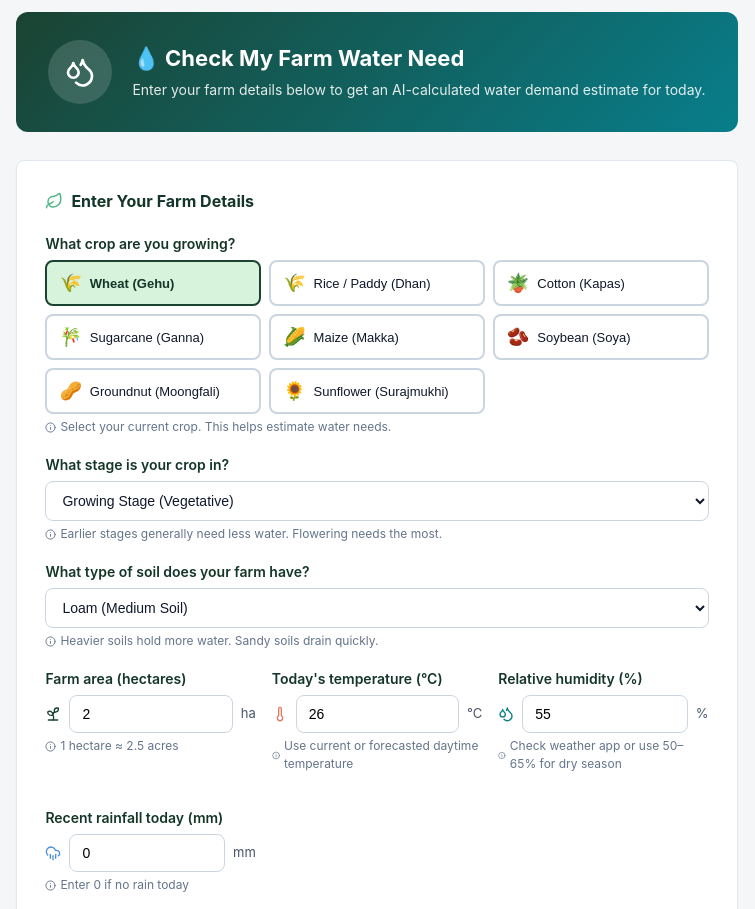
Scenario: FarmerPortalPage & Phase 14 Farmer Route Flow › validates client-side inputs and blocks invalid submissions
// Set invalid farm area (0)
Step 1. Replace the text in the number field labelled "Farm area (hectares)" with "0" → (151, 714), box [69, 695, 233, 733]
(page scrolled)
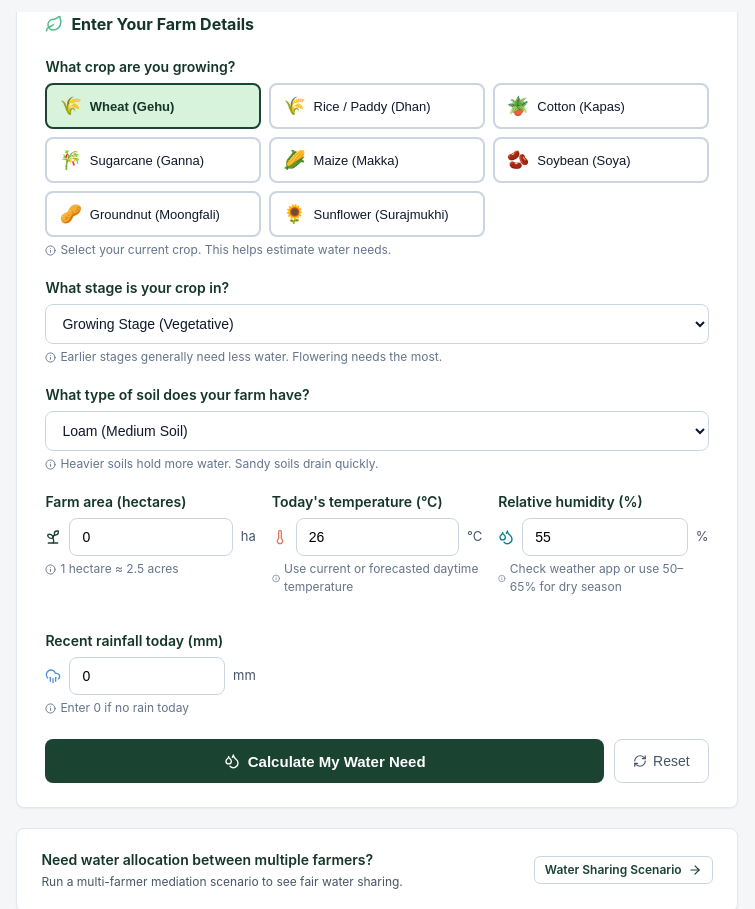
Step 2. Click the button "Calculate My Water Need" → (325, 761), box [45, 739, 604, 783]
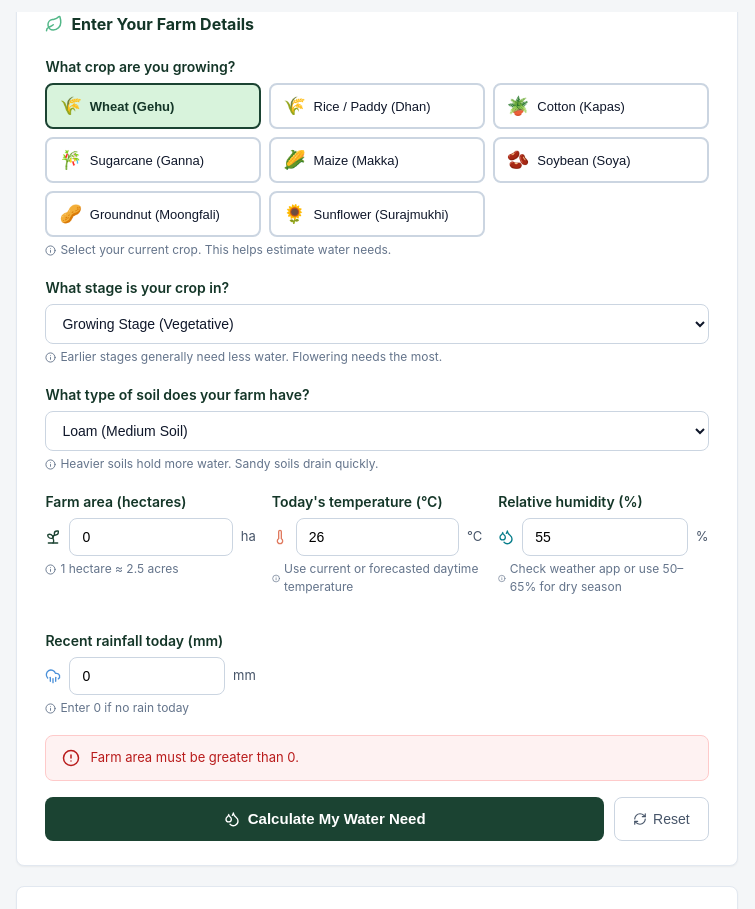
Expected: the text "Farm area must be greater than 0." is shown, [90, 748, 299, 768]
// Set invalid temperature (60°C)
Step 3. Replace the text in the number field labelled "Farm area (hectares)" with "2.5" → (151, 537), box [69, 518, 233, 556]
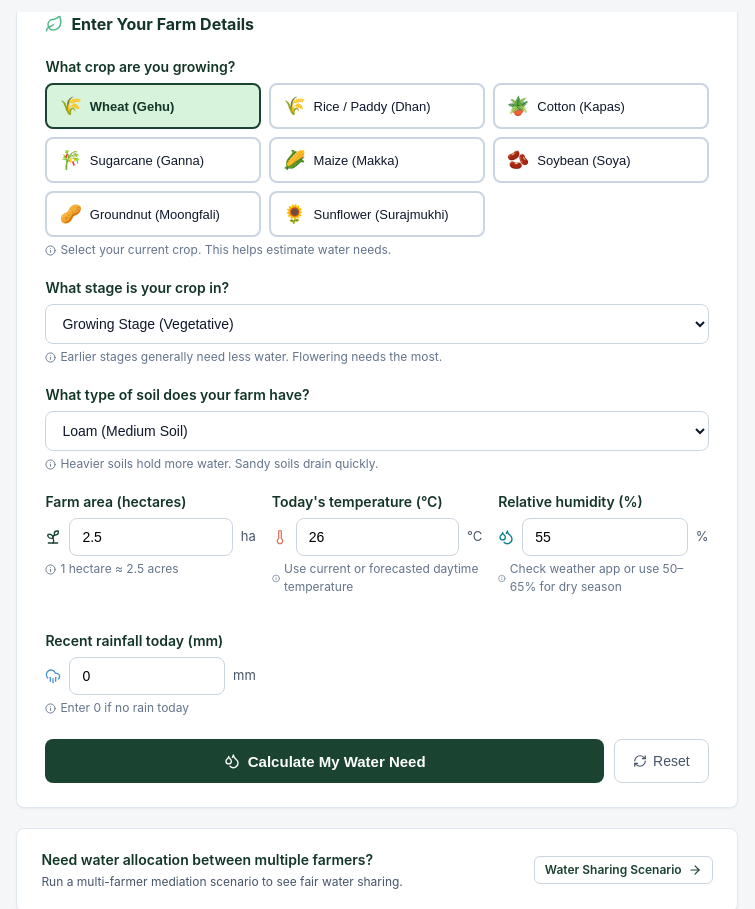
Step 4. Replace the text in the number field labelled "Today's temperature (°C)" with "60" → (377, 537), box [296, 518, 459, 556]
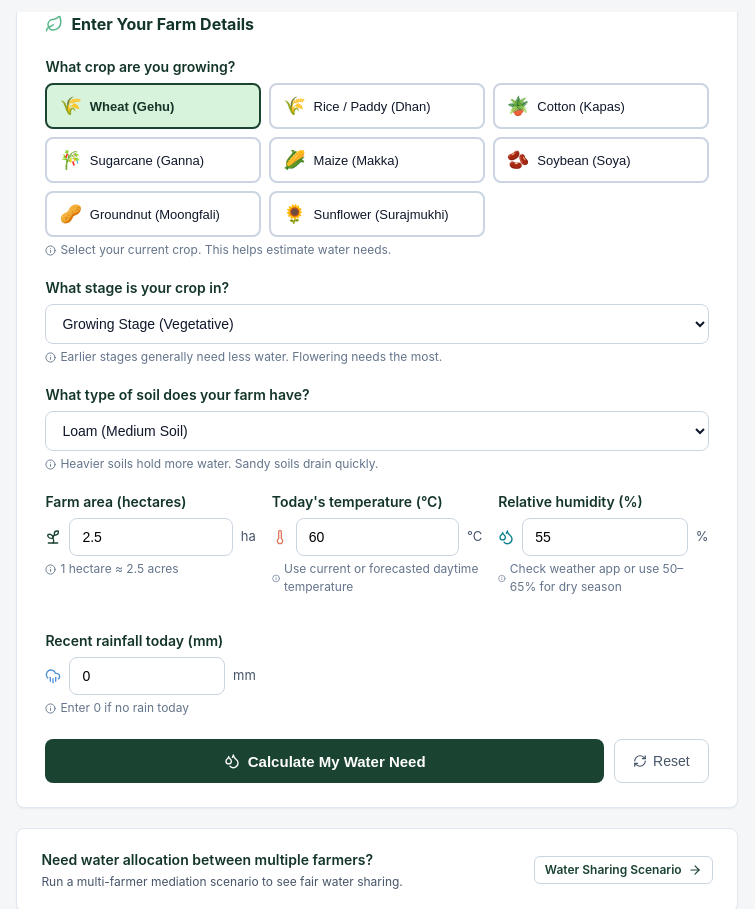
Step 5. Click the button "Calculate My Water Need" → (325, 761), box [45, 739, 604, 783]
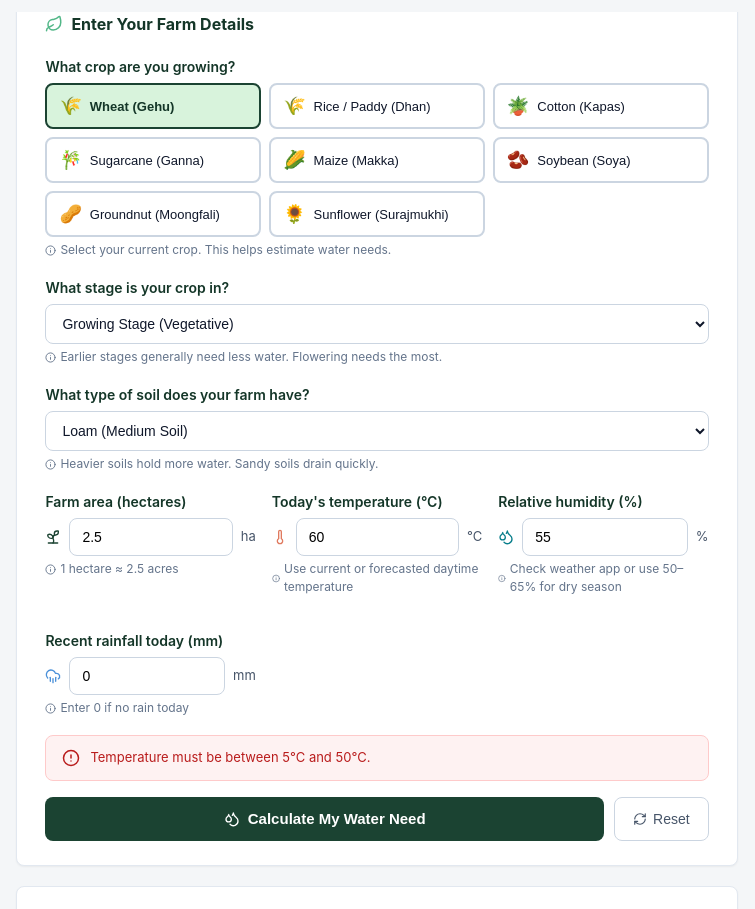
Expected: the text "Temperature must be between 5°C and 50°C." is shown, [90, 748, 370, 768]
